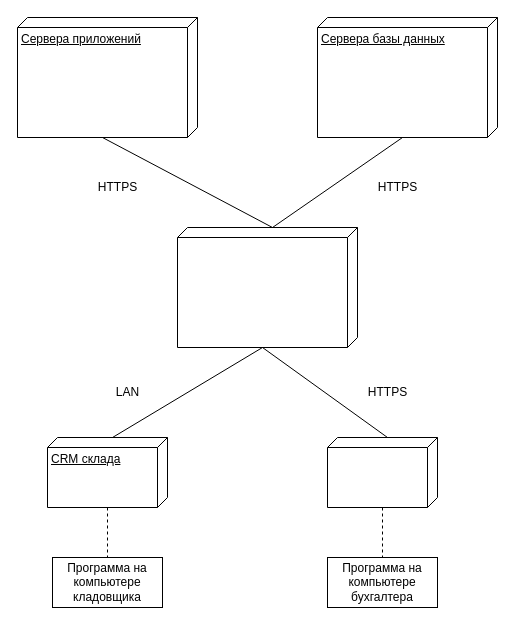
Image size: 515x625. Some labels were removed from this diagram. Here are the shapes that lost their labels. From the top down, the box of each, then its label:
(176, 226, 358, 348): Сеть
(326, 436, 438, 508): Банковское приложение
